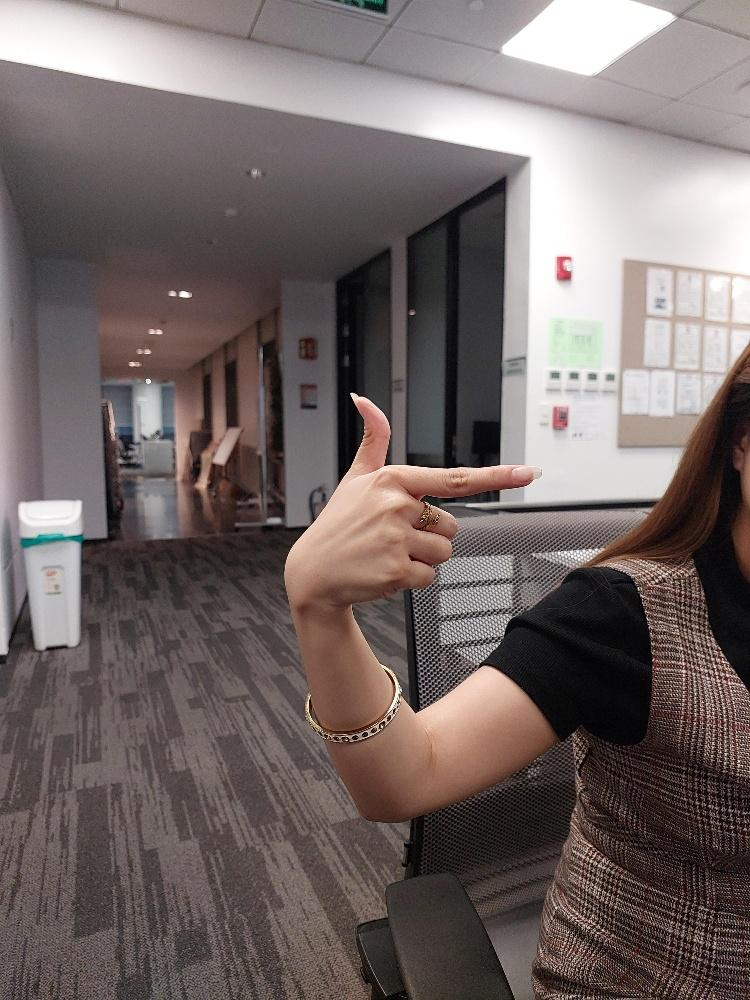g: (280, 386, 544, 616)
